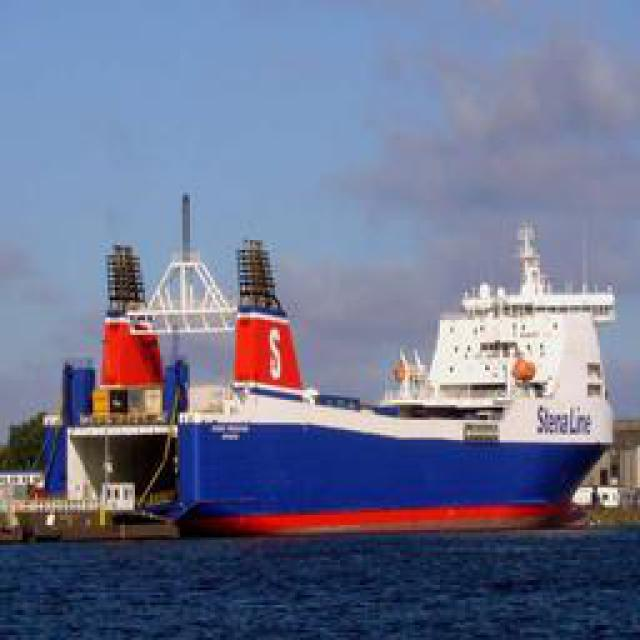Ship: (53, 197, 621, 525)
